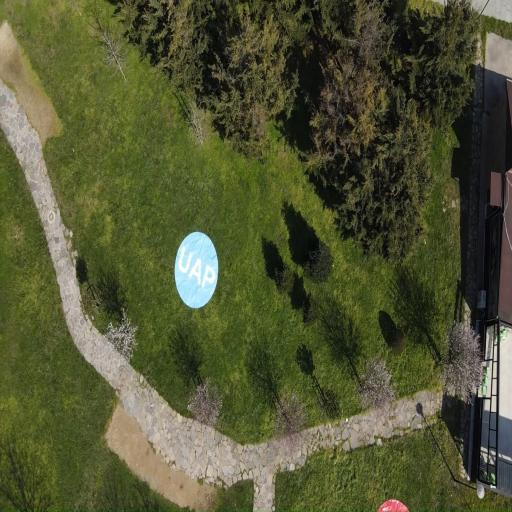car: (175, 232, 218, 308)
